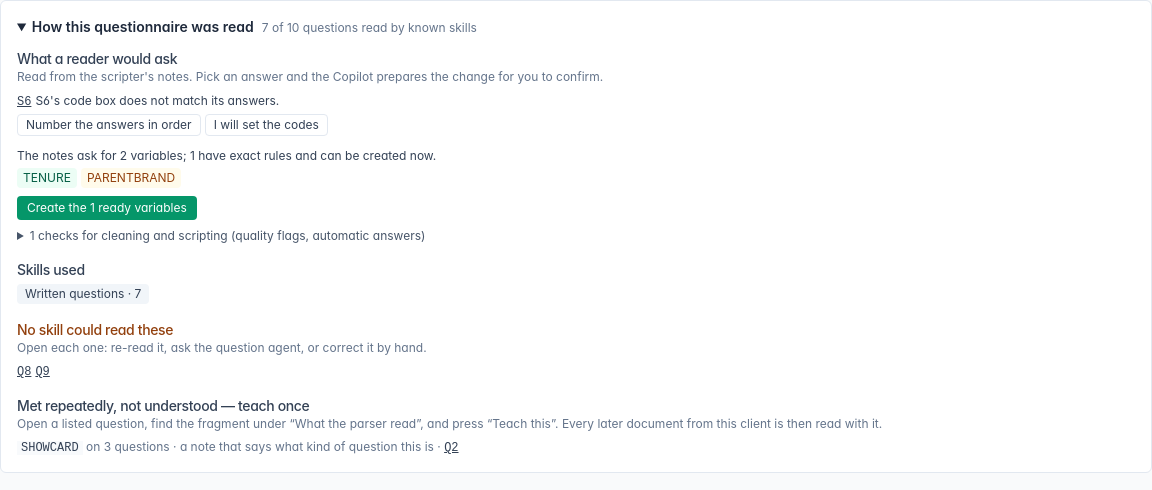
DecodingPanel › asks what only a person can settle and creates the ready variables
The image size is (1152, 490).
Click the button "Number the answers in order" at (109, 125), box [17,114,201,136]
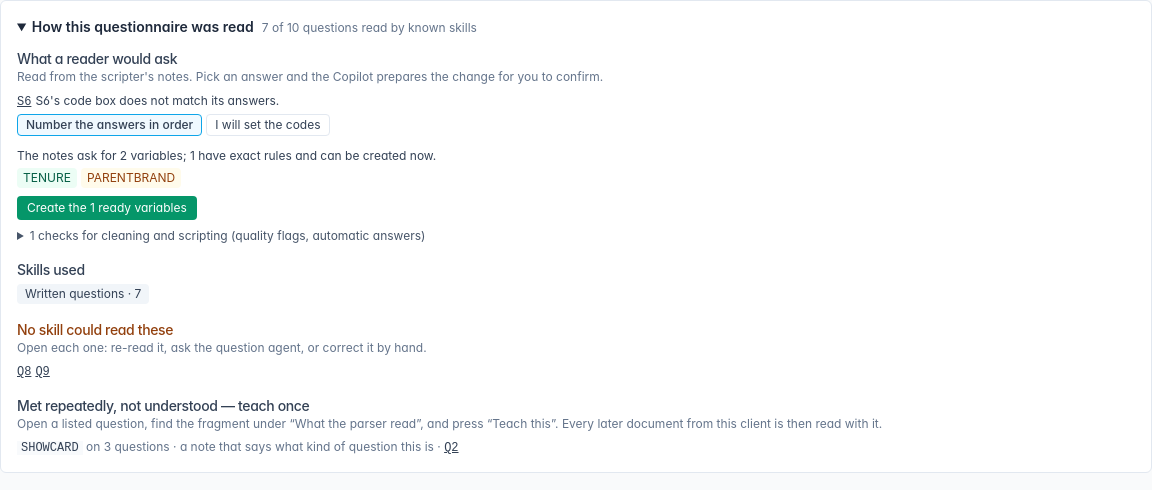
expect the button "Number the answers in order" is pressed: met, box [17,114,202,136]
Click the button "Create the 1 ready variables" at (107, 208), box [17,196,197,220]
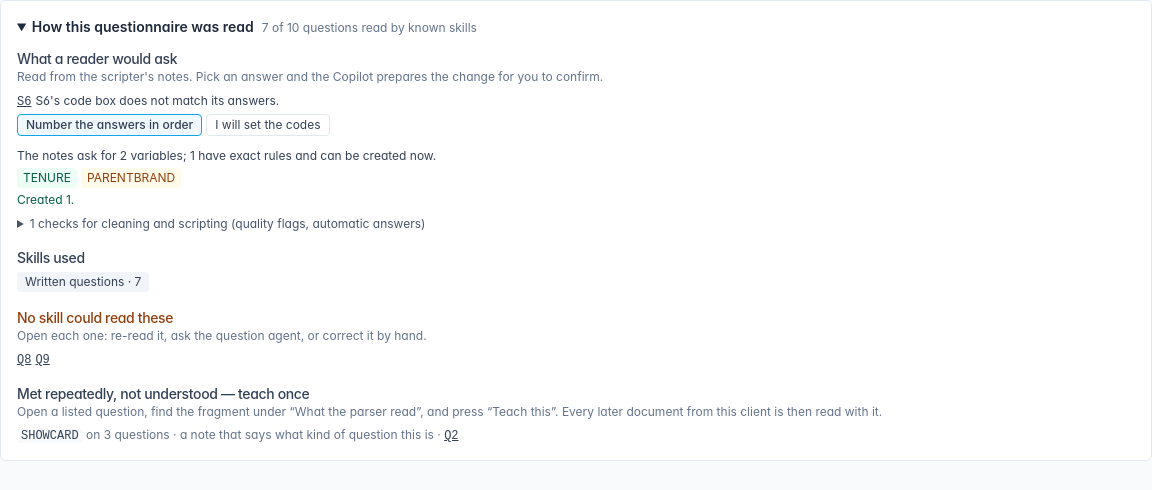
expect the text "Created 1." is shown: met, box [17,192,74,207]
